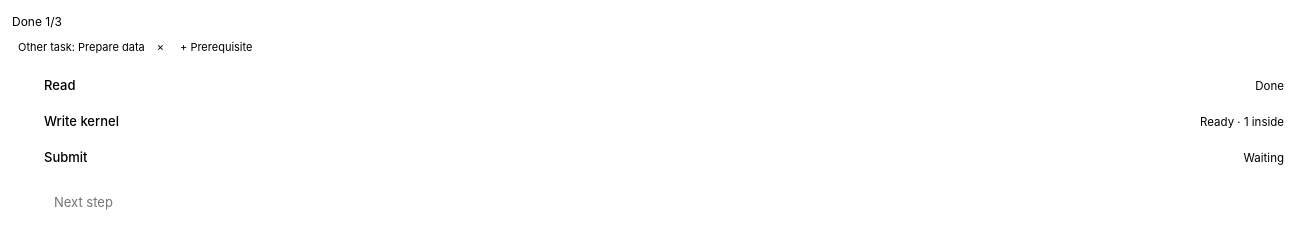
Scenario: TaskFlow › drills into a step that has steps of its own and comes back by the trail
Click the button "Write kernel Ready · 1 inside" at (81, 121), box [44,113,1284,129]
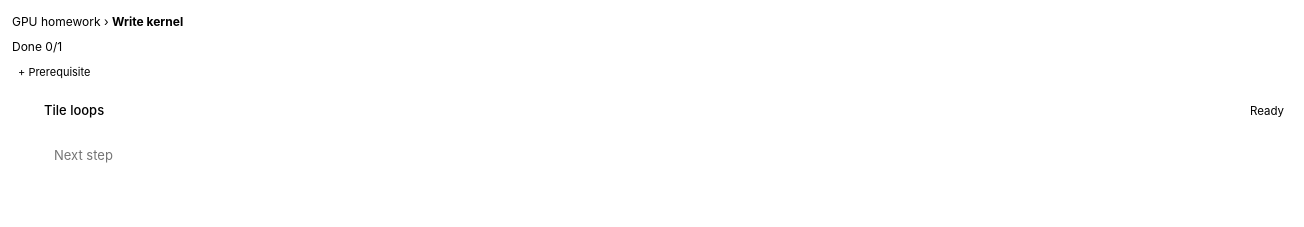
Result: the text "Tile loops" is shown at [44,102,104,118]
Result: the button "Submit" is gone
Click the button "GPU homework" at (56, 22), box [12,12,101,31]
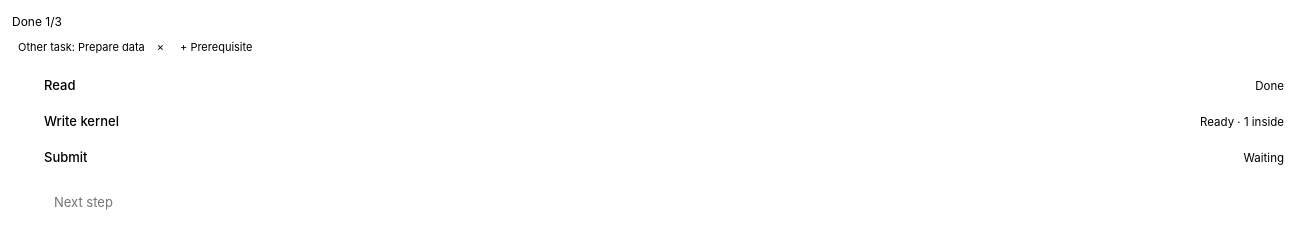
Result: the text "Submit" is shown at [44,149,88,165]
